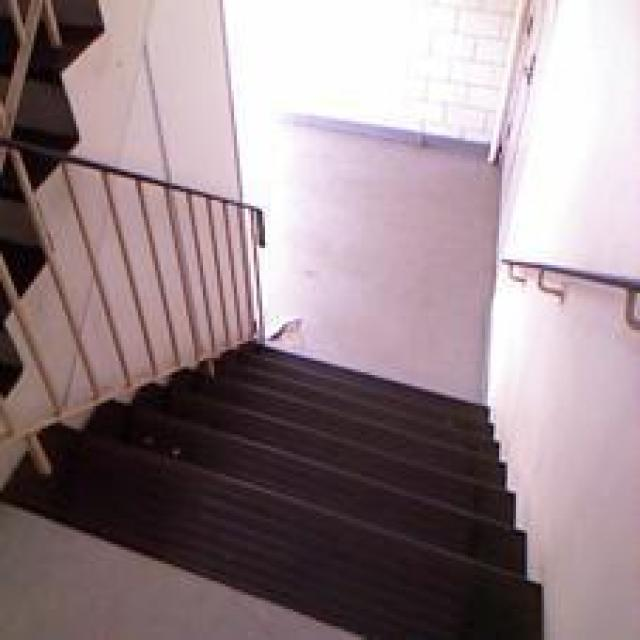downstair: (55, 368, 509, 599)
